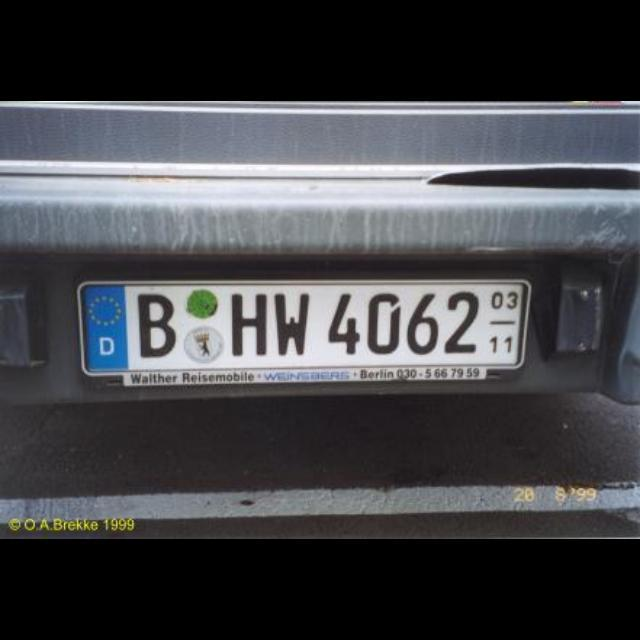license-plates: (79, 280, 531, 386)
